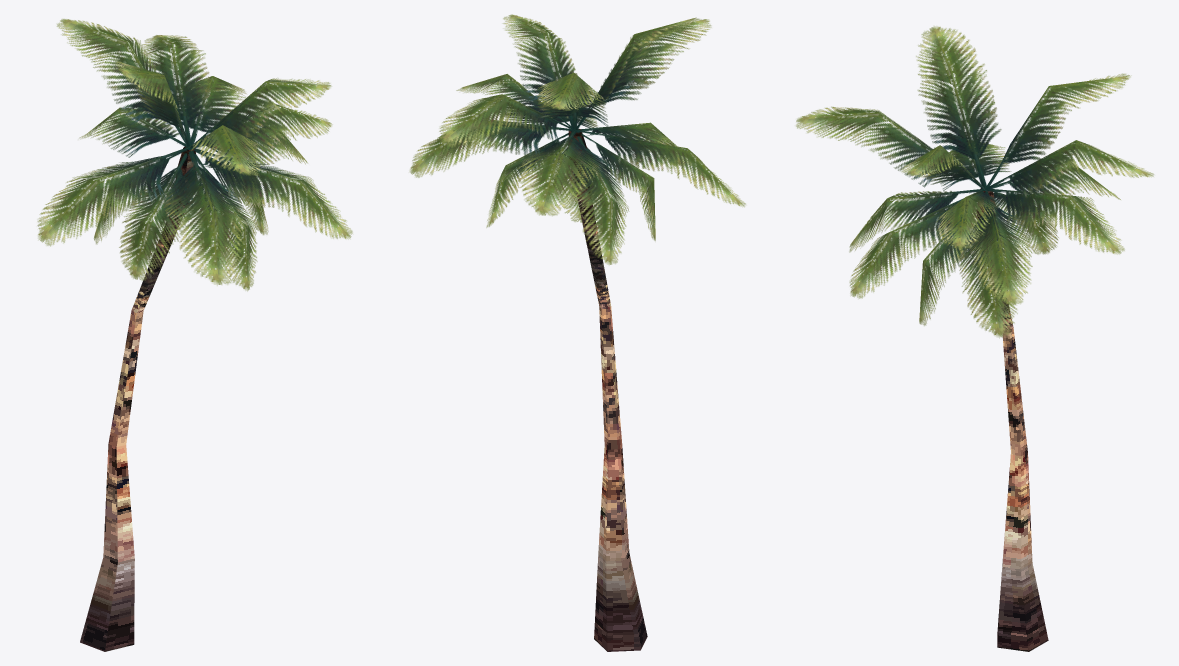
The model's file is stage-east-p2-77.glb.
The picture shows the model from 3 angles, left to right: view 1: azimuth 30°, elevation 25°; view 2: azimuth 150°, elevation 25°; view 3: azimuth 270°, elevation 25°; orthographic projection.
Size of the model in its own units: 8.73 by 17.07 by 9.66.
Materials: 2 (2 with a texture image).
